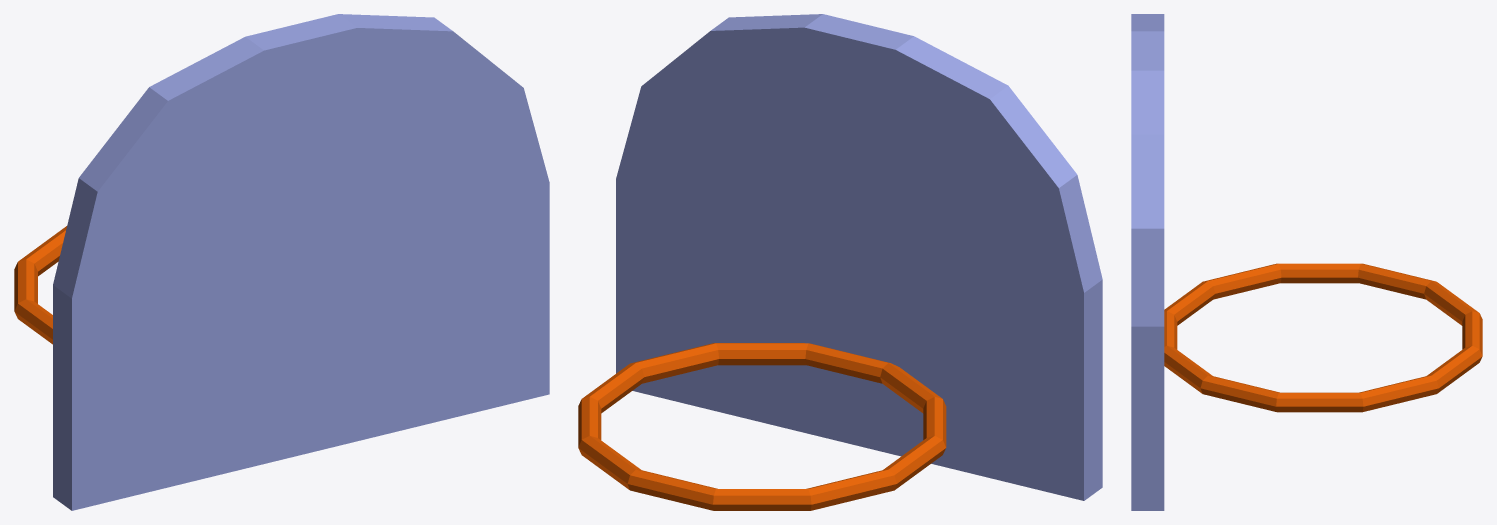
File: goal.glb
The picture shows the model from 3 angles, left to right: view 1: azimuth 30°, elevation 25°; view 2: azimuth 150°, elevation 25°; view 3: azimuth 270°, elevation 25°; orthographic projection. The views are drawn at different scales.
Visible parts, largest first — view 1: Cube; view 2: Cube; view 3: Cube.
Part boxes in pixels (x1=…): Cube: x1=14, y1=14, x2=549, y2=510; Cube: x1=578, y1=14, x2=1102, y2=510; Cube: x1=1131, y1=14, x2=1482, y2=510.
Bounding box in the file's own units: 0.6621 × 0.5478 × 0.486.
